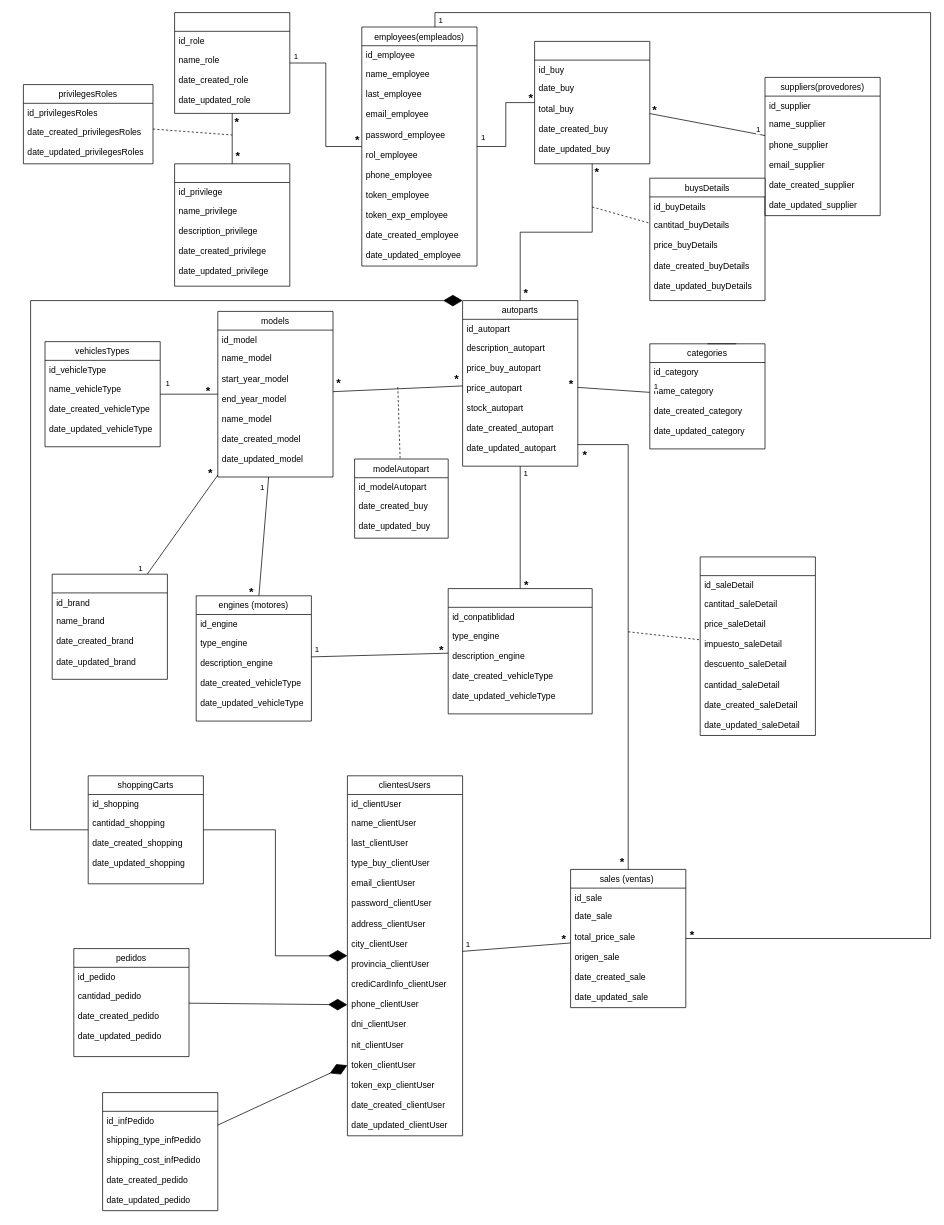
Some shapes in this 944 by 1225 pixel diagram are drawn without their labels. The shapes that lost their labels are listed below. From the top down, each one's box as (x1, y1, x2, y2) in pixels, then its label:
(174, 12, 290, 113): roles
(534, 41, 650, 164): buys(compras)
(174, 163, 290, 286): privileges
(51, 573, 167, 679): brands (marcas)
(699, 556, 815, 735): salesDetails
(447, 588, 592, 714): compatibilidaRepuestoMotores
(102, 1092, 218, 1211): infPedidos
